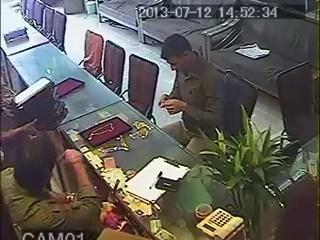Normal: (178, 106, 305, 240), (0, 123, 104, 240), (156, 34, 225, 144), (276, 61, 318, 151), (120, 54, 160, 122), (222, 70, 258, 136), (80, 116, 132, 149)
